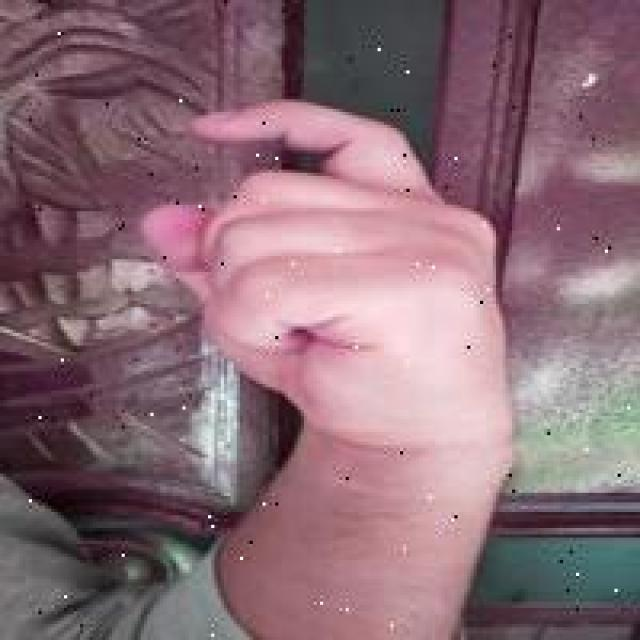X: (138, 86, 515, 445)
